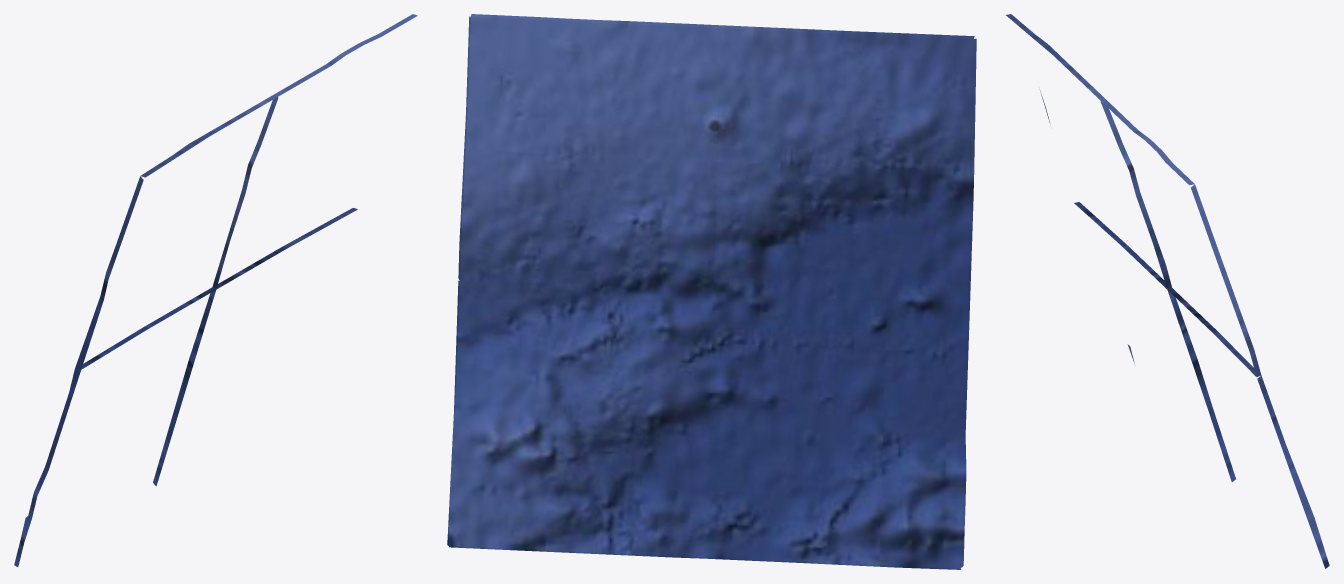
3 renders of one model, left to right at view 1: azimuth 30°, elevation 25°; view 2: azimuth 150°, elevation 25°; view 3: azimuth 270°, elevation 25°, orthographic. The views are drawn at different scales.
Bounding box in the file's own units: 313941 × 300793 × 215694.
Materials: 1 (1 with a texture image).
